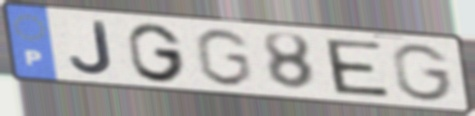8: (261, 31, 316, 94)
E: (321, 37, 394, 100)
G: (390, 42, 457, 104), (125, 21, 189, 84), (191, 26, 255, 89)
J: (68, 19, 117, 77)
